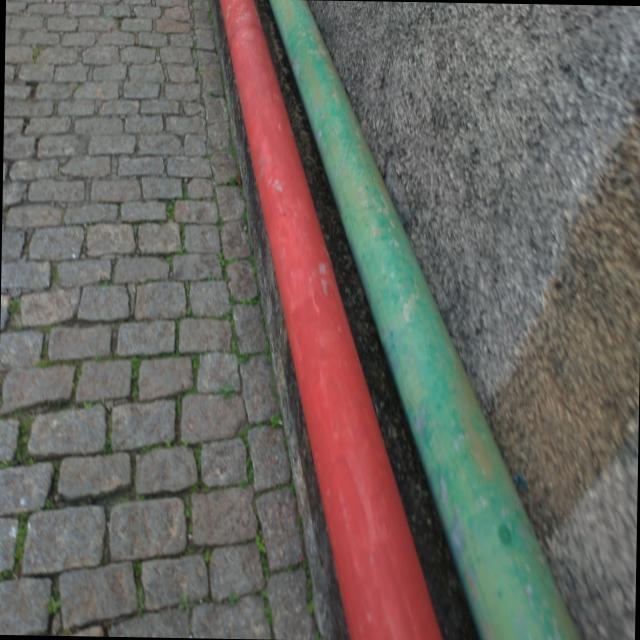gas: (269, 0, 577, 640), (220, 0, 446, 640)
